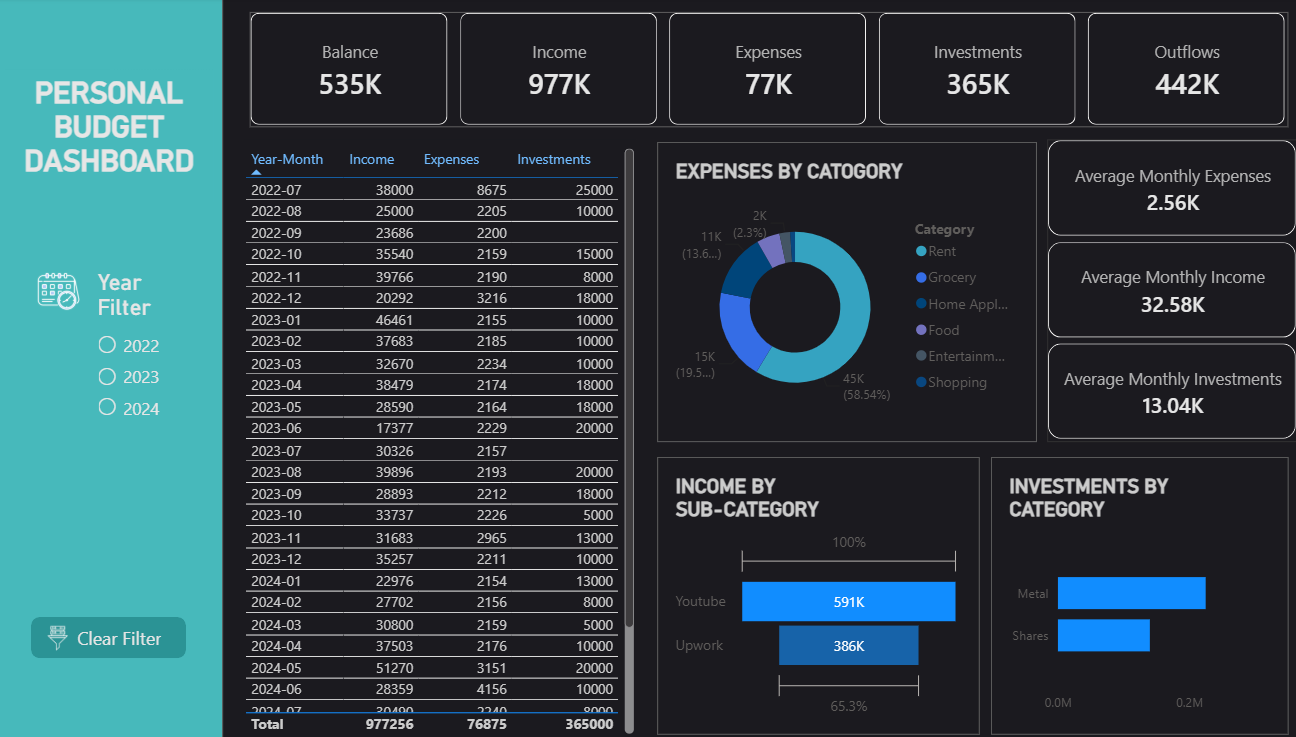

This screenshot's page, from the dashboard's own definition file:
{"tool":"powerbi","page":{"name":"Page 1","canvas":[1280,720],"ordinal":0},"visuals":[{"type":"shape","box":[13.3,0,232.8,720.2],"z":0},{"type":"shape","box":[232.8,0,1037.5,720.2],"z":1000},{"type":"cardVisual","fields":{"Data":["Key Mesures.Total Balance","Key Mesures.Total Income","Key Mesures.Total Expenses","Key Mesures.Total Investments","Key Mesures.Total Outflows"]},"box":[259.4,14.5,1002.6,111],"z":2000},{"type":"tableEx","fields":{"Values":["Date.Year-Month","Key Mesures.Total Income","Key Mesures.Total Expenses","Key Mesures.Total Investments"]},"box":[246.1,137.5,393.3,582.7],"z":3000},{"type":"donutChart","title":"EXPENSES BY CATOGORY ","fields":{"Category":["Expense.Category"],"Y":["Sum(Expense.Amount)"]},"box":[652.7,139.9,366.8,289.5],"z":4000},{"type":"cardVisual","fields":{"Data":["Key Mesures.Average Monthly Expenses","Key Mesures.Average Monthly Income","Key Mesures.Average Monthly Investments"]},"box":[1029.1,137.5,241.3,292],"z":5000},{"type":"funnel","title":"INCOME BY SUB-CATEGORY","fields":{"Category":["Income.Sub-Category"],"Y":["Sum(Income.Amount)"]},"box":[652.7,444,311.3,267.8],"z":6000},{"type":"clusteredBarChart","title":"INVESTMENTS BY CATEGORY","fields":{"Category":["Investment.Category"],"Y":["Sum(Investment.Amount)"]},"box":[974.8,444,287.1,267.8],"z":7000},{"type":"textbox","box":[22.9,70,201.5,127.9],"z":8000},{"type":"listSlicer","title":"Year Filter","fields":{"Values":["Date.Year"]},"box":[107.4,263,117,156.8],"z":9000},{"type":"image","box":[13.3,252.1,123.1,63.9],"z":10000},{"type":"actionButton","box":[48.3,598.4,149.6,39.8],"z":11000},{"type":"image","box":[22.9,606.8,102.5,24.1],"z":12000}]}

Visuals, with their boxes in screenshot pixels (x1, y1, x2, y2), scaled from the page's 1280x720 canvas onto the 1296x737 screenshot:
shape: [left=13, top=0, right=249, bottom=736]
shape: [left=236, top=0, right=1286, bottom=736]
cardVisual - Key Mesures.Total Balance x Key Mesures.Total Income: [left=263, top=15, right=1278, bottom=128]
tableEx - Date.Year-Month x Key Mesures.Total Income: [left=249, top=141, right=647, bottom=736]
"EXPENSES BY CATOGORY " donutChart: [left=661, top=143, right=1032, bottom=440]
cardVisual - Key Mesures.Average Monthly Expenses x Key Mesures.Average Monthly Income: [left=1042, top=141, right=1286, bottom=440]
"INCOME BY SUB-CATEGORY" funnel: [left=661, top=454, right=976, bottom=729]
"INVESTMENTS BY CATEGORY" clusteredBarChart: [left=987, top=454, right=1278, bottom=729]
textbox: [left=23, top=72, right=227, bottom=203]
"Year Filter" listSlicer: [left=109, top=269, right=227, bottom=430]
image: [left=13, top=258, right=138, bottom=323]
actionButton: [left=49, top=613, right=200, bottom=653]
image: [left=23, top=621, right=127, bottom=646]
